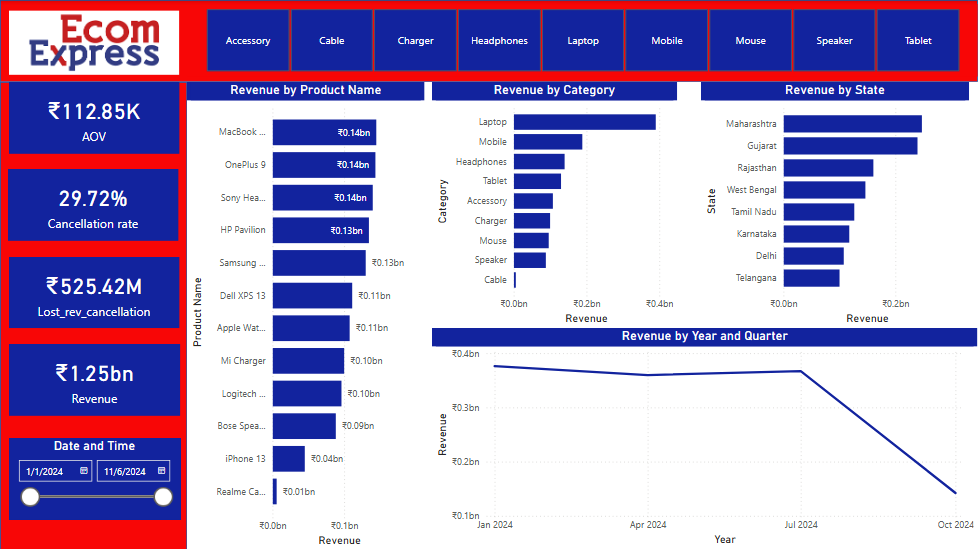

Layout of this report page (visuals, bound fields, positions):
{"tool":"powerbi","page":{"name":"Page 1","canvas":[1280,720],"ordinal":0},"visuals":[{"type":"shape","box":[0,0,1280,107.4],"z":0},{"type":"shape","box":[0,107.4,245,612.5],"z":1},{"type":"image","box":[11.8,3.9,222.5,103.4],"z":2},{"type":"card","fields":{"Values":["table.AOV"]},"box":[11.8,107.3,222.5,94.3],"z":3},{"type":"card","fields":{"Values":["table.Cancellation rate"]},"box":[10.5,221.2,222.5,94.3],"z":4},{"type":"card","fields":{"Values":["table.Lost_rev_cancellation"]},"box":[11.8,336.4,222.5,92.9],"z":5},{"type":"card","fields":{"Values":["table.Revenue"]},"box":[11.8,450.3,223.9,94.3],"z":7},{"type":"slicer","fields":{"Values":["products.Category"]},"box":[245,5.5,1035,95],"z":8},{"type":"barChart","fields":{"Y":["table.Revenue"],"Category":["products.Product Name"]},"box":[245,107.4,311.1,612.5],"z":9},{"type":"barChart","fields":{"Y":["table.Revenue"],"Category":["products.Category"]},"box":[565.7,107.4,320.7,322.1],"z":10},{"type":"barChart","fields":{"Y":["table.Revenue"],"Category":["customers.State"]},"box":[917.7,107.3,350.8,322],"z":11},{"type":"lineChart","fields":{"Y":["table.Revenue"],"Category":["orders.Date and time of purchase.Variation.Date Hierarchy.Year","orders.Date and time of purchase.Variation.Date Hierarchy.Quarter","orders.Date and time of purchase.Variation.Date Hierarchy.Month","orders.Date and time of purchase.Variation.Date Hierarchy.Day"]},"box":[565.7,429.4,714.3,289],"z":12},{"type":"slicer","title":"Date and Time","fields":{"Values":["orders.Date and time of purchase"]},"box":[11.8,573.4,223.9,107.3],"z":13}]}

Visuals, with their boxes in screenshot pixels (x1, y1, x2, y2), scaled from the page's 1280x720 canvas onto the 978x549 screenshot:
shape: 0:0:977:82
shape: 0:82:187:548
image: 9:3:179:82
card - table.AOV: 9:82:179:154
card - table.Cancellation rate: 8:169:178:241
card - table.Lost_rev_cancellation: 9:257:179:327
card - table.Revenue: 9:343:180:415
slicer - products.Category: 187:4:977:77
barChart - table.Revenue x products.Product Name: 187:82:425:548
barChart - table.Revenue x products.Category: 432:82:677:327
barChart - table.Revenue x customers.State: 701:82:969:327
lineChart - table.Revenue x orders.Date and time of purchase.Variation.Date Hierarchy.Year: 432:327:977:548
"Date and Time" slicer: 9:437:180:519
